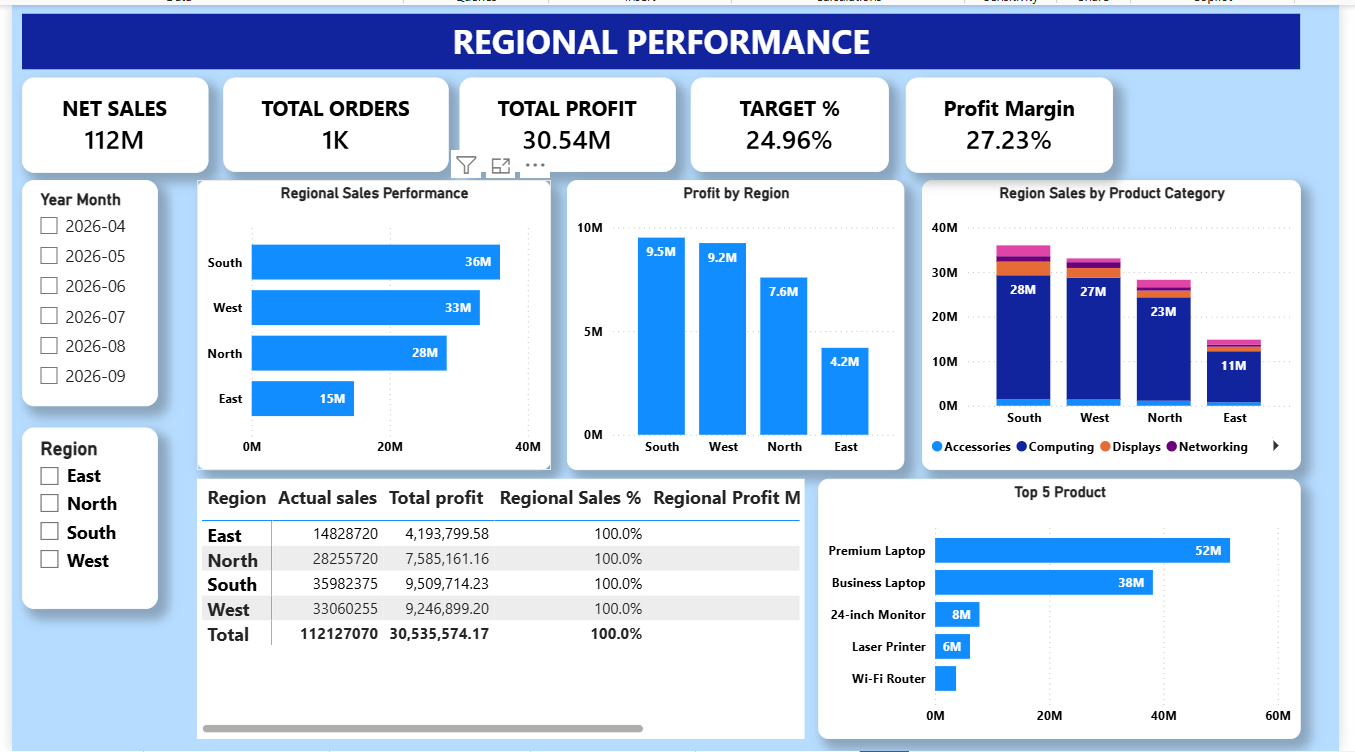

The dashboard page shown, as its layout file describes it:
{"tool":"powerbi","page":{"name":"Regional Performance ","canvas":[1280,720],"ordinal":2},"visuals":[{"type":"cardVisual","title":"NET SALES","fields":{"Data":["Measure.Actual sales"]},"box":[10,70,179.8,91.7],"z":0},{"type":"cardVisual","title":"NET SALES","fields":{"Data":["Measure.Total orders"]},"box":[203.3,70.3,217.5,91.2],"z":1000},{"type":"cardVisual","title":"NET SALES","fields":{"Data":["Measure.Total profit"]},"box":[431.8,70.3,208.8,91.2],"z":2000},{"type":"cardVisual","title":"NET SALES","fields":{"Data":["Measure.Target Achievement %"]},"box":[655.2,70.3,191.2,91.2],"z":3000},{"type":"slicer","fields":{"Values":["FactSales.Region"]},"box":[9.7,407.8,131.5,174.9],"z":4000},{"type":"clusteredBarChart","title":"Regional Sales Performance","fields":{"Category":["FactSales.Region"],"Y":["Measure.Actual sales"]},"box":[178.6,168.9,341.4,279.9],"z":5000},{"type":"clusteredColumnChart","title":"Profit by Region","fields":{"Category":["FactSales.Region"],"Y":["Measure.Total profit"]},"box":[535.7,168.9,325.7,279.9],"z":6000},{"type":"pivotTable","fields":{"Rows":["FactSales.Region"],"Values":["Measure.Actual sales","Measure.Total profit","Measure.Regional Sales %","Measure.Regional Profit Margin %","Measure.Total orders"]},"box":[178.6,457.2,586.3,250.9],"z":7000},{"type":"columnChart","title":"Region Sales by Product Category","fields":{"Category":["FactSales.Region"],"Y":["Measure.Actual sales"],"Series":["DimProduct.Category"]},"box":[878.3,168.9,365.6,279.9],"z":8000},{"type":"clusteredBarChart","title":"Top 5 Product ","fields":{"Category":["DimProduct.Product Name"],"Y":["Measure.Actual sales"]},"box":[778.2,457.2,465.7,250.9],"z":9000},{"type":"textbox","box":[10,8.8,1233.8,53.8],"z":10000},{"type":"slicer","fields":{"Values":["DimDate.Year Month"]},"box":[9.7,168.9,131.5,218.4],"z":11000},{"type":"cardVisual","title":"NET SALES","fields":{"Data":["Measure.Profit Margin %"]},"box":[862.3,70.3,200.3,91.7],"z":12000}]}

Visuals, with their boxes on the page's 1280x720 design canvas (x1, y1, x2, y2). These are canvas units, not pixel positions in the 1355x752 screenshot, which may show the page scaled, cropped or inside an application window:
"NET SALES" cardVisual: <box>10,70,190,162</box>
"NET SALES" cardVisual: <box>203,70,421,162</box>
"NET SALES" cardVisual: <box>432,70,641,162</box>
"NET SALES" cardVisual: <box>655,70,846,162</box>
slicer - FactSales.Region: <box>10,408,141,583</box>
"Regional Sales Performance" clusteredBarChart: <box>179,169,520,449</box>
"Profit by Region" clusteredColumnChart: <box>536,169,861,449</box>
pivotTable - FactSales.Region x Measure.Actual sales: <box>179,457,765,708</box>
"Region Sales by Product Category" columnChart: <box>878,169,1244,449</box>
"Top 5 Product " clusteredBarChart: <box>778,457,1244,708</box>
textbox: <box>10,9,1244,63</box>
slicer - DimDate.Year Month: <box>10,169,141,387</box>
"NET SALES" cardVisual: <box>862,70,1063,162</box>
